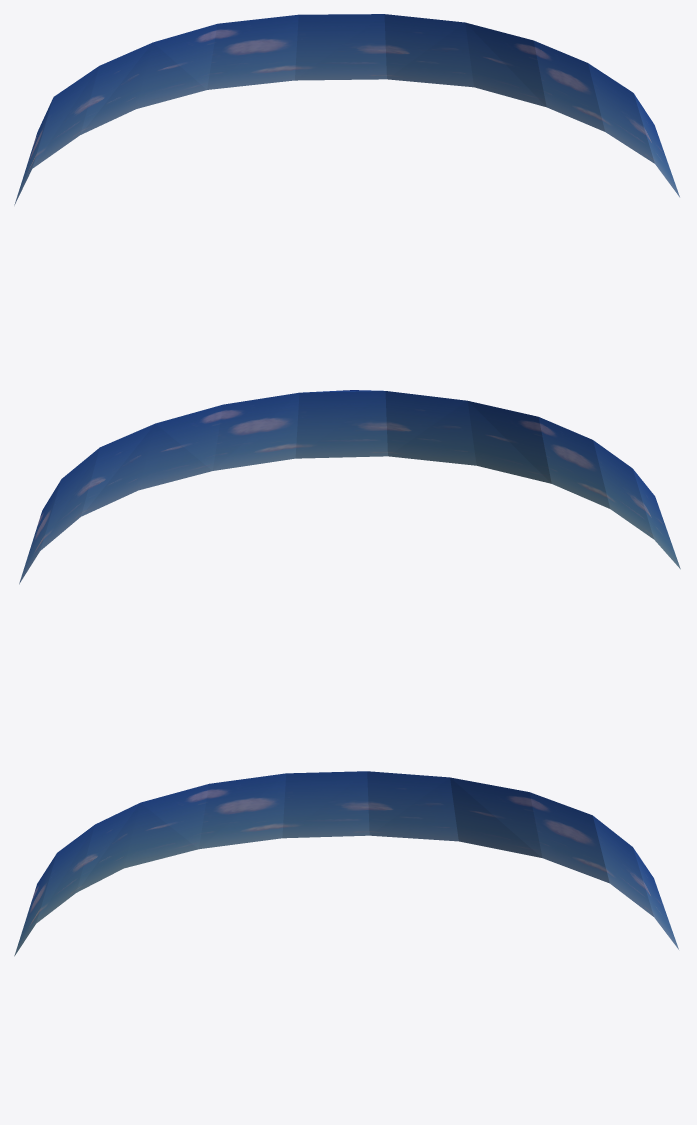
The model's file is vrcorn.glb.
3 renders of one model, top to bottom at view 1: azimuth 30°, elevation 25°; view 2: azimuth 150°, elevation 25°; view 3: azimuth 270°, elevation 25°, orthographic.
Visible parts, largest first — view 1: polygon0; view 2: polygon0; view 3: polygon0.
Boxes of the visible parts, box(x1,y1,x2,y2) form: polygon0: box(14, 14, 679, 205); polygon0: box(19, 390, 680, 584); polygon0: box(14, 771, 678, 956).
Bounding box in the file's own units: 1057 × 360 × 1087.
Materials: 1 (1 with a texture image).
